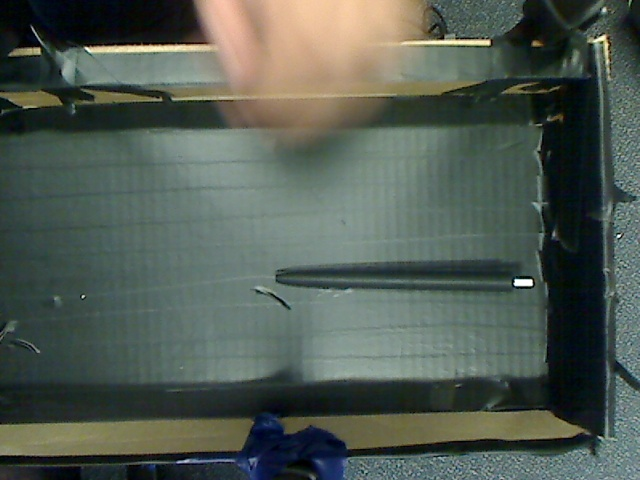pen: (266, 253, 547, 309)
